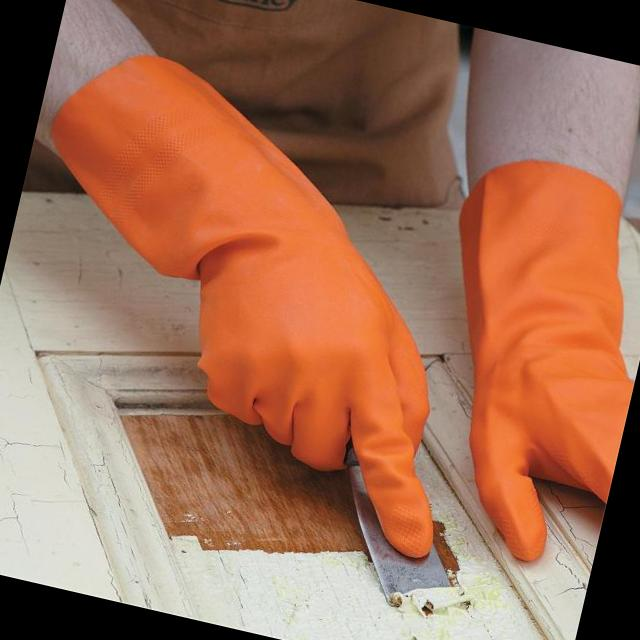Gloves: (37, 51, 531, 546), (410, 158, 640, 580)
